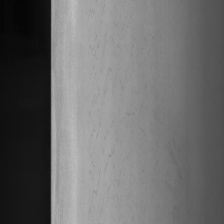silk_spot: (86, 2, 137, 212)
